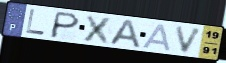A: (107, 18, 143, 50), (141, 23, 173, 53)
L: (25, 8, 47, 37)
P: (48, 10, 82, 40)
V: (174, 25, 205, 55)
X: (81, 14, 117, 46)
